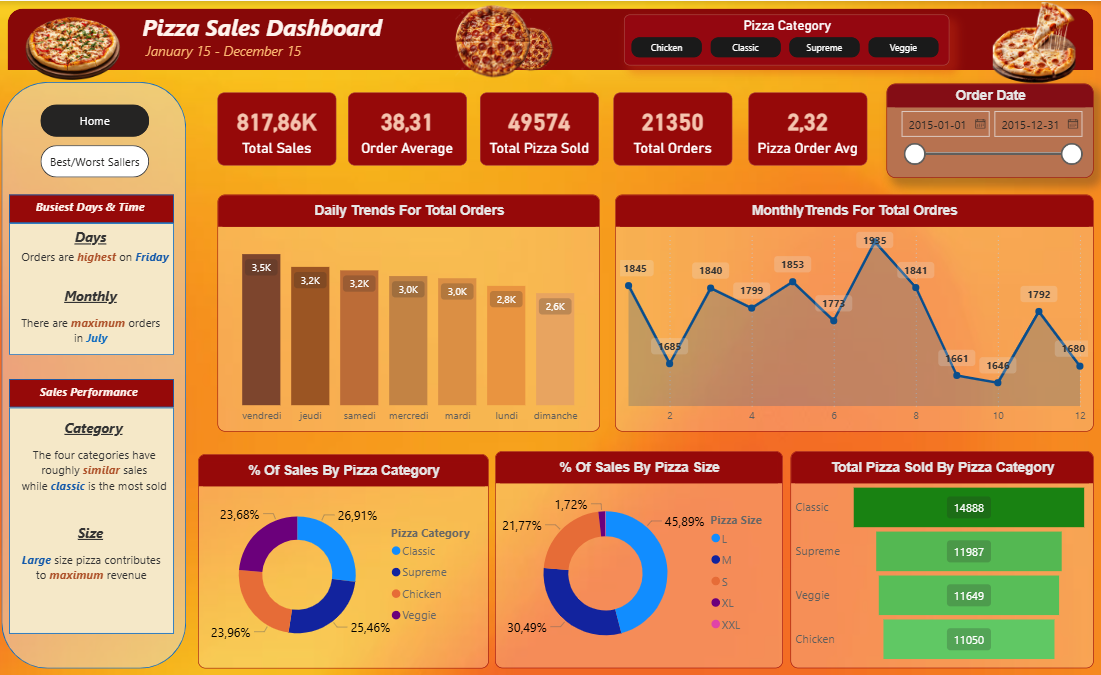

This screenshot's page, from the dashboard's own definition file:
{"tool":"powerbi","page":{"name":"Home","canvas":[1304,800],"ordinal":0},"visuals":[{"type":"shape","box":[12.4,8.8,1279.6,72.5],"z":0},{"type":"image","box":[597.4,29.5,61.9,54.8],"z":1000},{"type":"image","box":[14.3,14.3,151.1,82.7],"z":2000},{"type":"image","box":[1139.9,0,164.4,97.2],"z":3000},{"type":"textbox","box":[165.4,8,357.9,71.6],"z":4000},{"type":"advancedSlicerVisual","title":"Pizza Category","fields":{"Values":["Dim_Pizza.pizza_category"]},"box":[738.8,15.9,383.5,60.1],"z":5000},{"type":"card","fields":{"Values":["mesures.Total Sales"]},"box":[259.7,108.6,140,85.9],"z":6000},{"type":"card","fields":{"Values":["mesures.Order Average"]},"box":[413.5,108.6,140,85.9],"z":7000},{"type":"card","fields":{"Values":["mesures.Total Pizza Sold"]},"box":[569.4,108.6,140,85.9],"z":8000},{"type":"card","fields":{"Values":["mesures.Total Orders"]},"box":[726.9,108.6,140,85.9],"z":9000},{"type":"card","fields":{"Values":["mesures.Pizza Order Avg"]},"box":[885.9,108.6,140,85.9],"z":10000},{"type":"slicer","title":"Order Date","fields":{"Values":["Dim_Date.order_date"]},"box":[1048,97.2,243.9,111.3],"z":11000},{"type":"columnChart","title":"Daily Trends For Total Orders","fields":{"Y":["mesures.Total Orders"],"Series":["Dim_Date.day_name"],"Category":["Dim_Date.day_name"]},"box":[259.8,228,450.7,279.2],"z":12000},{"type":"areaChart","title":"MonthlyTrends For Total Ordres","fields":{"Y":["mesures.Total Orders"],"Category":["Dim_Date.month_num"]},"box":[728.1,228,563.8,279.2],"z":13000},{"type":"donutChart","title":"% Of Sales By Pizza Category","fields":{"Y":["mesures.Total Sales"],"Category":["Dim_Pizza.pizza_category"]},"box":[236,533.7,342.9,252.7],"z":14000},{"type":"donutChart","title":"% Of Sales By Pizza Size","fields":{"Y":["mesures.Total Sales"],"Category":["Dim_Pizza.pizza_size"]},"box":[586.8,530.2,339.3,256.3],"z":15000},{"type":"funnel","title":"Total Pizza Sold By Pizza Category","fields":{"Y":["mesures.Total Pizza Sold"],"Category":["Dim_Pizza.pizza_category"]},"box":[934.9,530.2,357,256.3],"z":16000},{"type":"shape","box":[5.8,96.3,217.5,691.2],"z":17000},{"type":"image","box":[537.3,-0.6,91.9,97.2],"z":18000},{"type":"pageNavigator","box":[52,121.3,129,86.6],"z":19000},{"type":"shape","box":[14.1,228,194.4,33.6],"z":20000},{"type":"shape","box":[14.4,261.1,194.4,155.6],"z":21000},{"type":"shape","box":[13.5,445.4,194.4,33.6],"z":22000},{"type":"shape","box":[13.3,478.9,194.4,266.7],"z":23000},{"type":"textbox","box":[41.1,227.8,138.9,33.3],"z":24000},{"type":"textbox","box":[41.1,261.1,138.9,33.3],"z":25000},{"type":"textbox","box":[40.4,330,138.9,33.3],"z":26000},{"type":"textbox","box":[22.2,285.6,185.6,31.1],"z":27000},{"type":"textbox","box":[17.8,363.3,185.6,50],"z":28000},{"type":"textbox","box":[41.1,445.6,138.9,33.3],"z":29000},{"type":"textbox","box":[44.4,486.7,138.9,33.3],"z":30000},{"type":"textbox","box":[22.2,520,183.3,90],"z":31000},{"type":"textbox","box":[40,610,138.9,33.3],"z":32000},{"type":"textbox","box":[18.9,643.3,183.3,90],"z":33000}]}

Visuals, with their boxes in screenshot pixels (x1, y1, x2, y2), scaled from the page's 1304x800 canvas onto the 1101x675 screenshot:
shape: bbox(10, 7, 1091, 69)
image: bbox(504, 25, 557, 71)
image: bbox(12, 12, 140, 82)
image: bbox(962, 0, 1100, 82)
textbox: bbox(140, 7, 442, 67)
"Pizza Category" advancedSlicerVisual: bbox(624, 13, 948, 64)
card - mesures.Total Sales: bbox(219, 92, 337, 164)
card - mesures.Order Average: bbox(349, 92, 467, 164)
card - mesures.Total Pizza Sold: bbox(481, 92, 599, 164)
card - mesures.Total Orders: bbox(614, 92, 732, 164)
card - mesures.Pizza Order Avg: bbox(748, 92, 866, 164)
"Order Date" slicer: bbox(885, 82, 1091, 176)
"Daily Trends For Total Orders" columnChart: bbox(219, 192, 600, 428)
"MonthlyTrends For Total Ordres" areaChart: bbox(615, 192, 1091, 428)
"% Of Sales By Pizza Category" donutChart: bbox(199, 450, 489, 664)
"% Of Sales By Pizza Size" donutChart: bbox(495, 447, 782, 664)
"Total Pizza Sold By Pizza Category" funnel: bbox(789, 447, 1091, 664)
shape: bbox(5, 81, 189, 664)
image: bbox(454, 0, 531, 82)
pageNavigator: bbox(44, 102, 153, 175)
shape: bbox(12, 192, 176, 221)
shape: bbox(12, 220, 176, 352)
shape: bbox(11, 376, 176, 404)
shape: bbox(11, 404, 175, 629)
textbox: bbox(35, 192, 152, 220)
textbox: bbox(35, 220, 152, 248)
textbox: bbox(34, 278, 151, 307)
textbox: bbox(19, 241, 175, 267)
textbox: bbox(15, 307, 172, 349)
textbox: bbox(35, 376, 152, 404)
textbox: bbox(37, 411, 155, 439)
textbox: bbox(19, 439, 174, 515)
textbox: bbox(34, 515, 151, 543)
textbox: bbox(16, 543, 171, 619)
